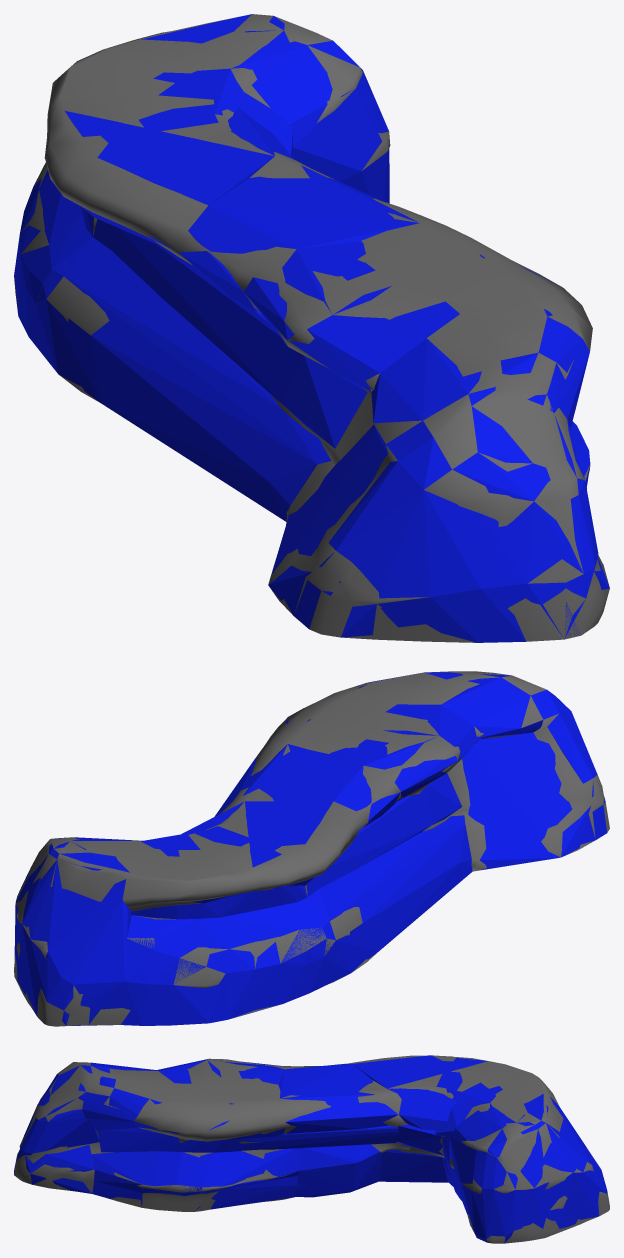
File: Cliff_bereg_03.fbx
3 renders of one model, top to bottom at view 1: azimuth 30°, elevation 25°; view 2: azimuth 150°, elevation 25°; view 3: azimuth 270°, elevation 25°, orthographic. The views are drawn at different scales.
Parts seen in each view (by area): view 1: Cliff_bereg_03_LOD0, Cliff_bereg_03_COL_11, Cliff_bereg_03_COL_06, Cliff_bereg_03_COL_09, Cliff_bereg_03_COL_00, Cliff_bereg_03_COL_03, Cliff_bereg_03_COL_04, Cliff_bereg_03_COL_05, Cliff_bereg_03_COL_02, Cliff_bereg_03_COL_10, Cliff_bereg_03_COL_01, Cliff_bereg_03_COL_14; view 2: Cliff_bereg_03_LOD0, Cliff_bereg_03_COL_11, Cliff_bereg_03_COL_00, Cliff_bereg_03_COL_10, Cliff_bereg_03_COL_09, Cliff_bereg_03_COL_03, Cliff_bereg_03_COL_04, Cliff_bereg_03_COL_05, Cliff_bereg_03_COL_02, Cliff_bereg_03_COL_06, Cliff_bereg_03_COL_01; view 3: Cliff_bereg_03_LOD0, Cliff_bereg_03_COL_00, Cliff_bereg_03_COL_08, Cliff_bereg_03_COL_03, Cliff_bereg_03_COL_09, Cliff_bereg_03_COL_02, Cliff_bereg_03_COL_13, Cliff_bereg_03_COL_06, Cliff_bereg_03_COL_05, Cliff_bereg_03_COL_10, Cliff_bereg_03_COL_11, Cliff_bereg_03_COL_04 (+4 smaller).
Boxes of the visible parts, x1=… form: Cliff_bereg_03_LOD0: x1=14, y1=14, x2=609, y2=642; Cliff_bereg_03_COL_11: x1=14, y1=170, x2=331, y2=521; Cliff_bereg_03_COL_06: x1=294, y1=406, x2=598, y2=642; Cliff_bereg_03_COL_09: x1=80, y1=206, x2=367, y2=448; Cliff_bereg_03_COL_00: x1=141, y1=14, x2=389, y2=203; Cliff_bereg_03_COL_03: x1=178, y1=165, x2=419, y2=311; Cliff_bereg_03_COL_04: x1=244, y1=241, x2=556, y2=391; Cliff_bereg_03_COL_05: x1=371, y1=316, x2=589, y2=460; Cliff_bereg_03_COL_02: x1=64, y1=108, x2=293, y2=251; Cliff_bereg_03_COL_10: x1=268, y1=425, x2=586, y2=615; Cliff_bereg_03_COL_01: x1=138, y1=68, x2=293, y2=155; Cliff_bereg_03_COL_14: x1=139, y1=114, x2=218, y2=131; Cliff_bereg_03_LOD0: x1=14, y1=671, x2=609, y2=1026; Cliff_bereg_03_COL_11: x1=121, y1=815, x2=472, y2=1025; Cliff_bereg_03_COL_00: x1=14, y1=837, x2=138, y2=1025; Cliff_bereg_03_COL_10: x1=462, y1=732, x2=595, y2=870; Cliff_bereg_03_COL_09: x1=131, y1=773, x2=462, y2=919; Cliff_bereg_03_COL_03: x1=214, y1=744, x2=400, y2=826; Cliff_bereg_03_COL_04: x1=286, y1=683, x2=480, y2=801; Cliff_bereg_03_COL_05: x1=368, y1=672, x2=559, y2=738; Cliff_bereg_03_COL_02: x1=181, y1=801, x2=365, y2=885; Cliff_bereg_03_COL_06: x1=547, y1=690, x2=606, y2=839; Cliff_bereg_03_COL_01: x1=141, y1=830, x2=247, y2=903; Cliff_bereg_03_LOD0: x1=14, y1=1055, x2=609, y2=1243; Cliff_bereg_03_COL_00: x1=450, y1=1094, x2=607, y2=1243; Cliff_bereg_03_COL_08: x1=91, y1=1148, x2=298, y2=1196; Cliff_bereg_03_COL_03: x1=278, y1=1064, x2=398, y2=1133; Cliff_bereg_03_COL_09: x1=97, y1=1125, x2=399, y2=1152; Cliff_bereg_03_COL_02: x1=353, y1=1055, x2=487, y2=1130; Cliff_bereg_03_COL_13: x1=296, y1=1144, x2=382, y2=1197; Cliff_bereg_03_COL_06: x1=14, y1=1066, x2=99, y2=1167; Cliff_bereg_03_COL_05: x1=78, y1=1062, x2=157, y2=1130; Cliff_bereg_03_COL_10: x1=92, y1=1176, x2=297, y2=1211; Cliff_bereg_03_COL_11: x1=378, y1=1149, x2=448, y2=1182; Cliff_bereg_03_COL_04: x1=134, y1=1059, x2=284, y2=1141.
Size of what is drawn, in the model's own units: 1445 by 3076 by 579.
